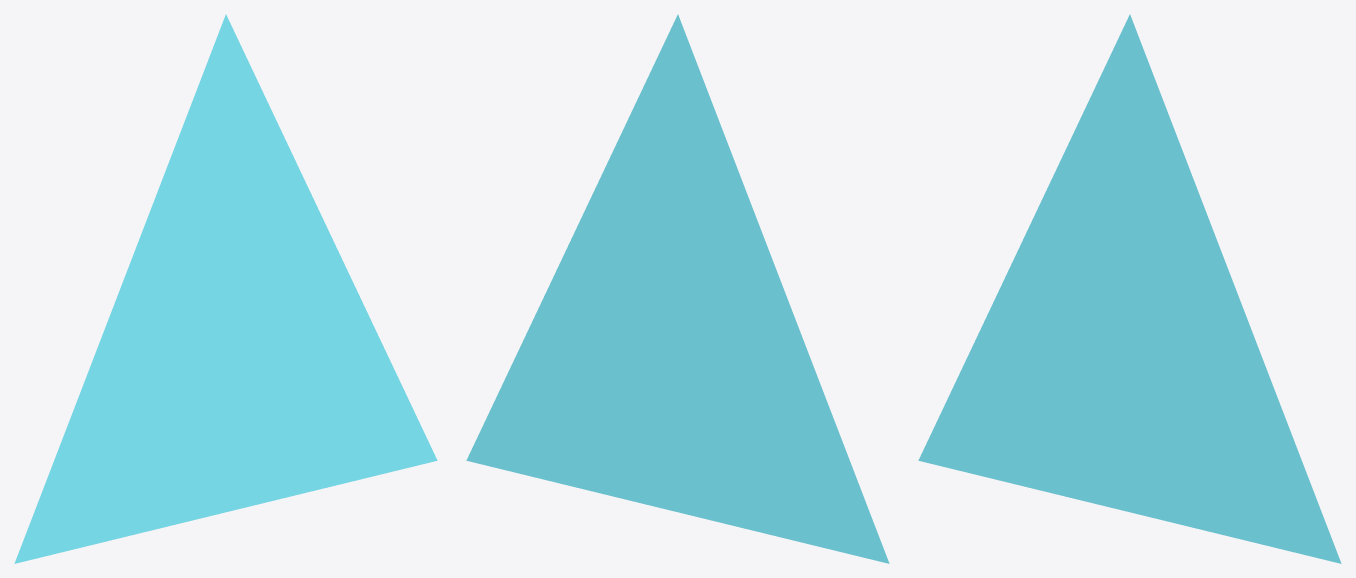
The model's file is morphed-triangle.gltf.
3 views of the same model, side by side, from view 1: azimuth 30°, elevation 25°; view 2: azimuth 150°, elevation 25°; view 3: azimuth 330°, elevation 25° (orthographic).
Visible parts, largest first — view 1: MorphedTriangle; view 2: MorphedTriangle; view 3: MorphedTriangle.
Boxes of the visible parts, x1,y1,x2,y2 form: MorphedTriangle: (14, 14, 437, 563); MorphedTriangle: (466, 14, 889, 563); MorphedTriangle: (918, 14, 1341, 563).
Bounding box in the file's own units: 1.2 × 1.35 × 0.
